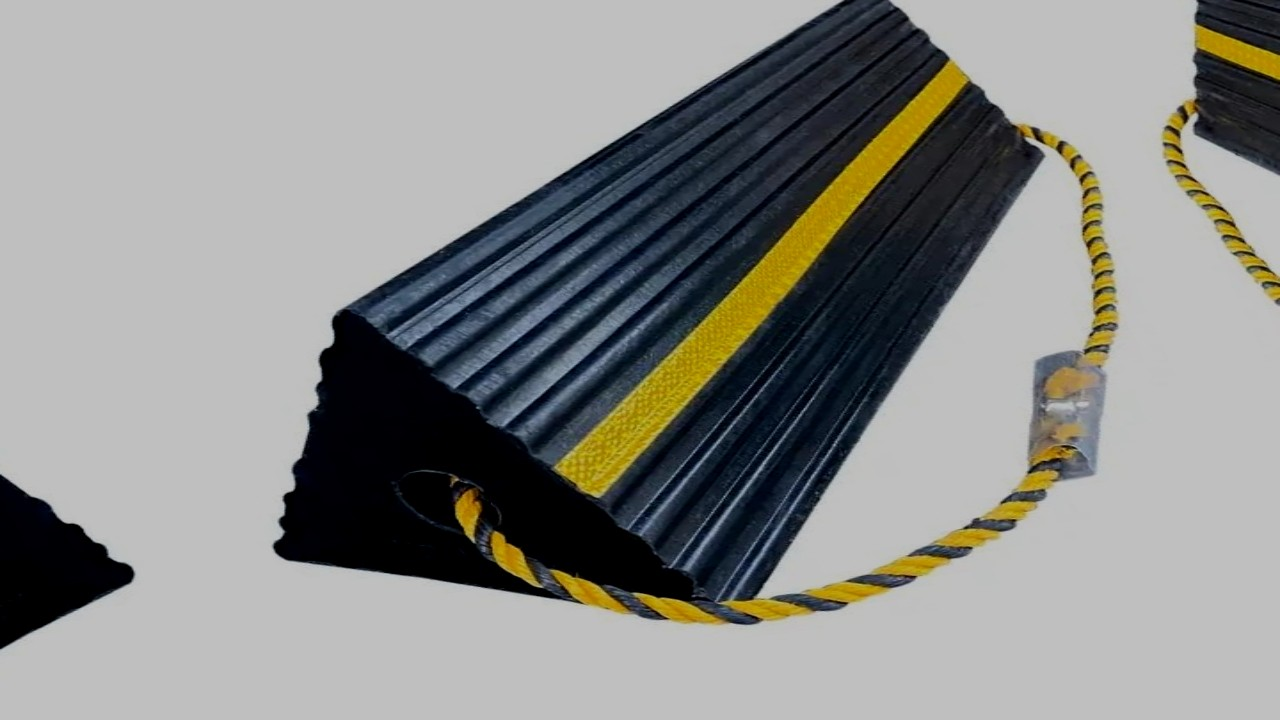chock: (62, 0, 1233, 684)
